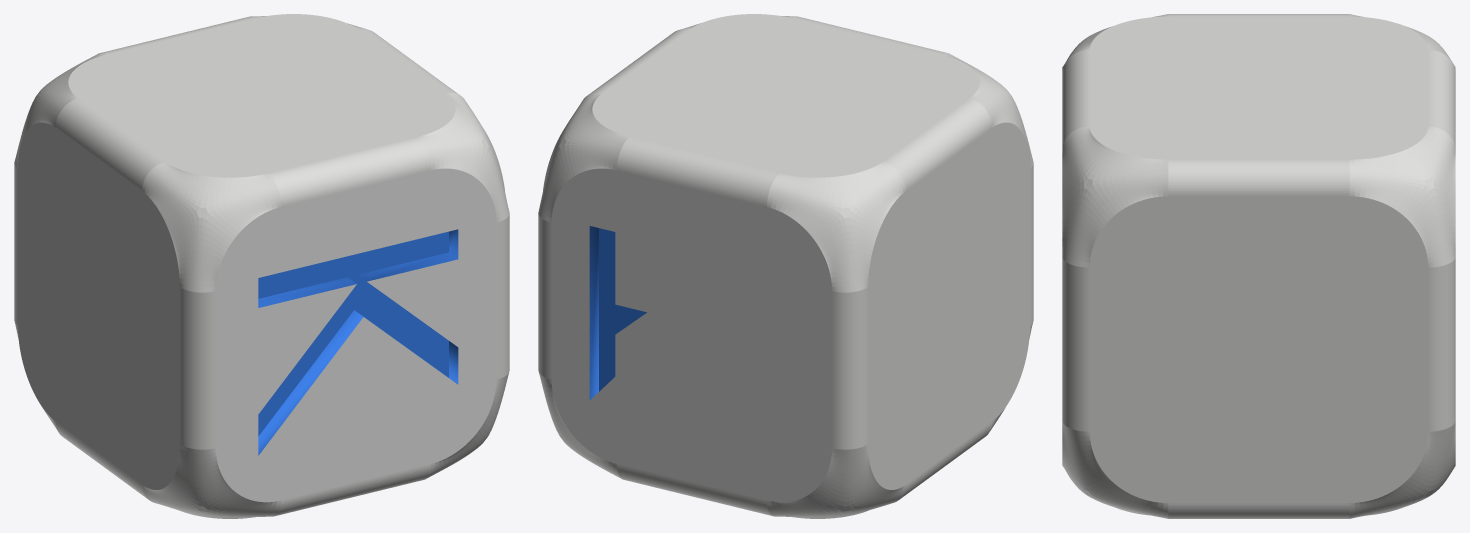
File: BoggleDice.fbx_Die3.fbx
3 renders of one model, left to right at view 1: azimuth 30°, elevation 25°; view 2: azimuth 150°, elevation 25°; view 3: azimuth 270°, elevation 25°, orthographic. The views are drawn at different scales.
Visible parts, largest first — view 1: Die3; view 2: Die3; view 3: Die3.
Part boxes in pixels (<box>): Die3: <box>14,14,509,518</box>; Die3: <box>538,14,1033,518</box>; Die3: <box>1062,14,1455,518</box>.
Bounding box in the file's own units: 200 × 200 × 200.
